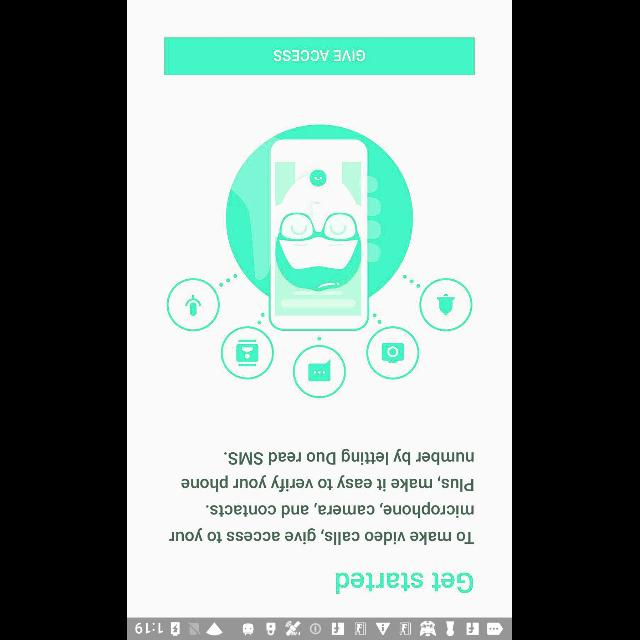image: (167, 124, 473, 398)
text: (169, 448, 475, 544), (336, 572, 474, 594)
textbutton: (165, 37, 475, 75)
uppertaskbar: (128, 617, 512, 639)
